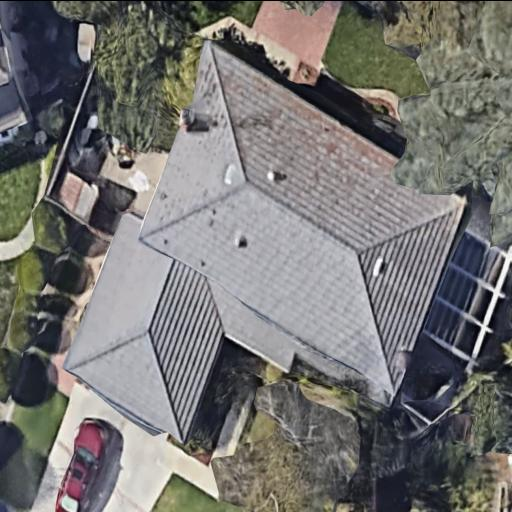Slope-Roof: (62, 37, 464, 438)
